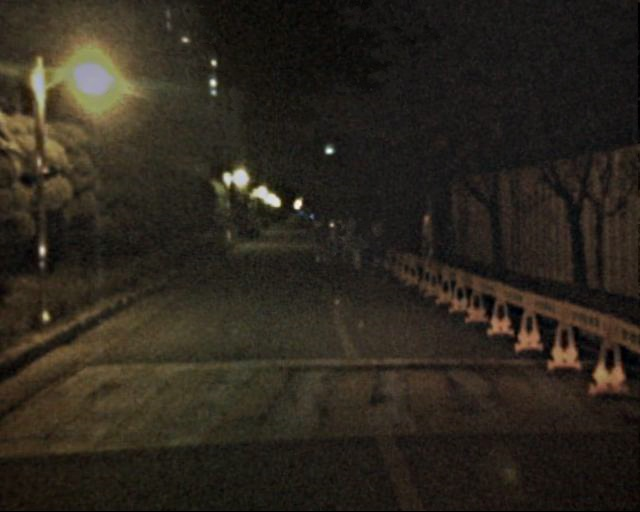person: (364, 224, 388, 282), (347, 228, 369, 281), (323, 216, 343, 264), (339, 216, 359, 264), (309, 219, 327, 262)
